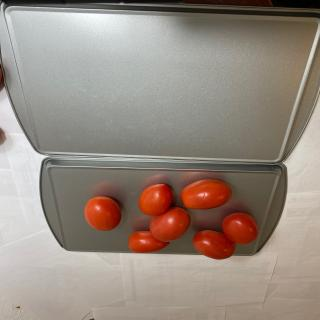Tomato: (181, 179, 232, 209), (149, 207, 191, 242), (84, 196, 122, 231), (192, 230, 236, 260), (222, 212, 259, 245), (138, 183, 172, 216), (128, 231, 170, 253)
